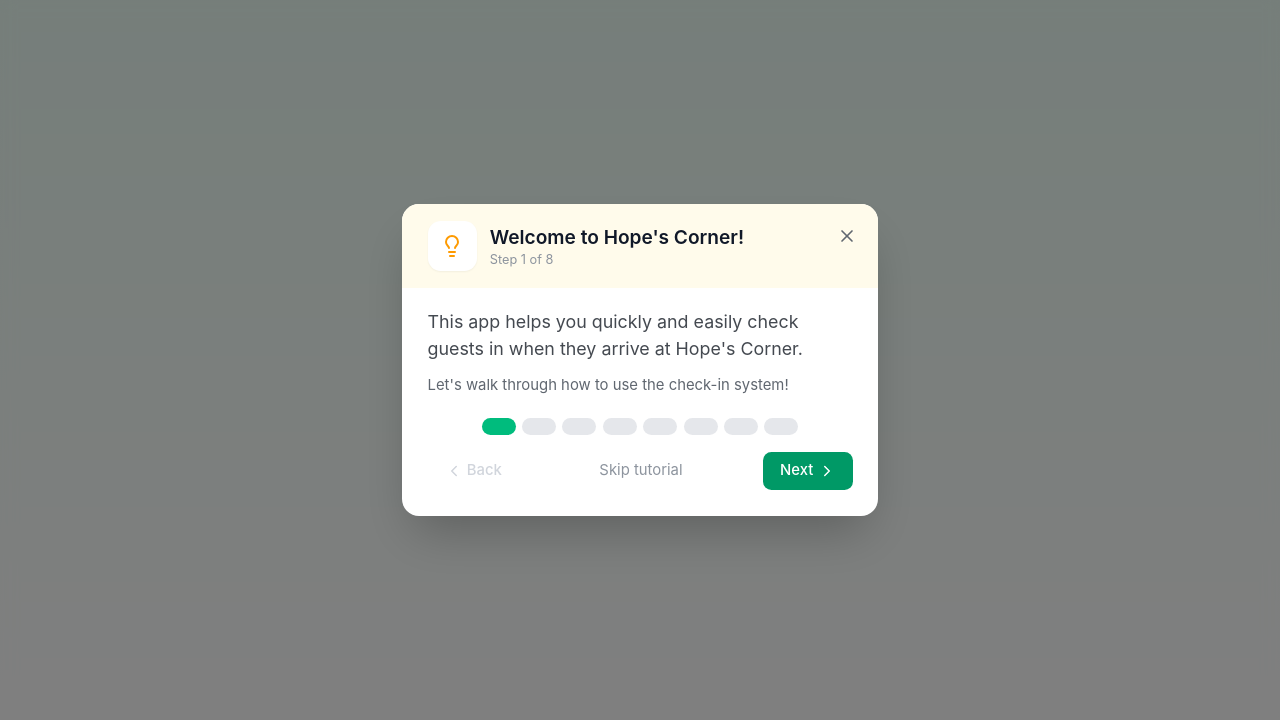
Test case: TutorialModal › should navigate to next step when Next button is clicked
Expected: the heading "Welcome to Hope's Corner!" is shown, top-left (490, 223), bottom-right (744, 252)
# Click Next
What coordinates should you click on to do the following:
click the button "Next"
I would click on:
 (808, 471)
Its box is top-left (763, 452), bottom-right (852, 490).
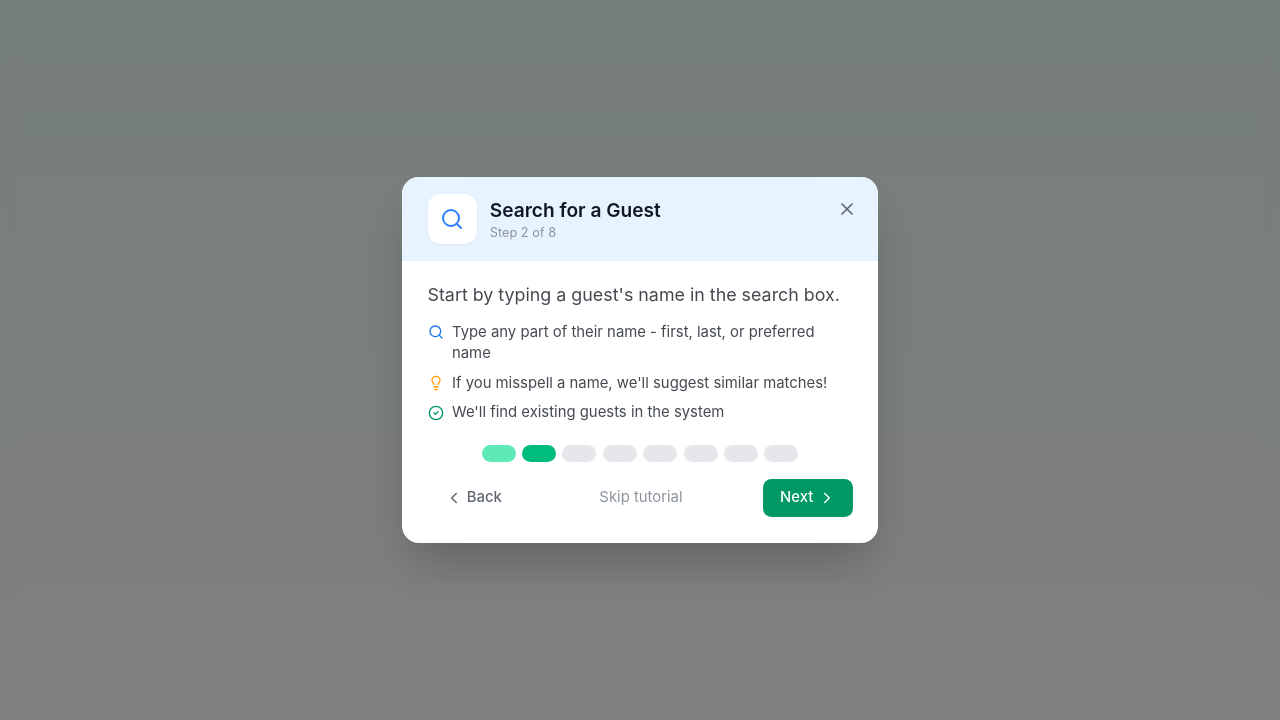
Expected: the heading "Search for a Guest" is shown, top-left (490, 196), bottom-right (661, 226)
